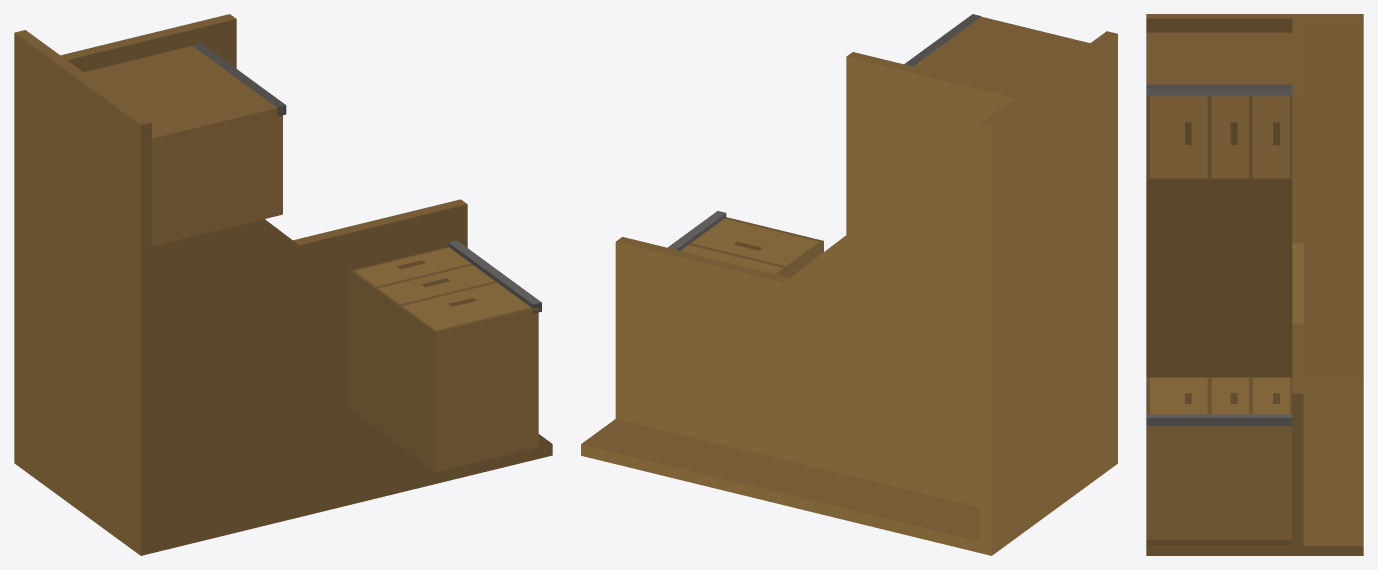
Rendered from Desk4.glb.
The picture shows the model from 3 angles, left to right: view 1: azimuth 30°, elevation 25°; view 2: azimuth 150°, elevation 25°; view 3: azimuth 270°, elevation 25°; orthographic projection. The views are drawn at different scales.
Parts seen in each view (by area): view 1: SO_Desk_04; view 2: SO_Desk_04; view 3: SO_Desk_04.
Part boxes in pixels (x1=…): SO_Desk_04: x1=14, y1=14, x2=552, y2=555; SO_Desk_04: x1=581, y1=14, x2=1117, y2=555; SO_Desk_04: x1=1146, y1=14, x2=1363, y2=555.
Bounding box in the file's own units: 4.08 × 4.08 × 2.17.
1 material, 1 textured.
